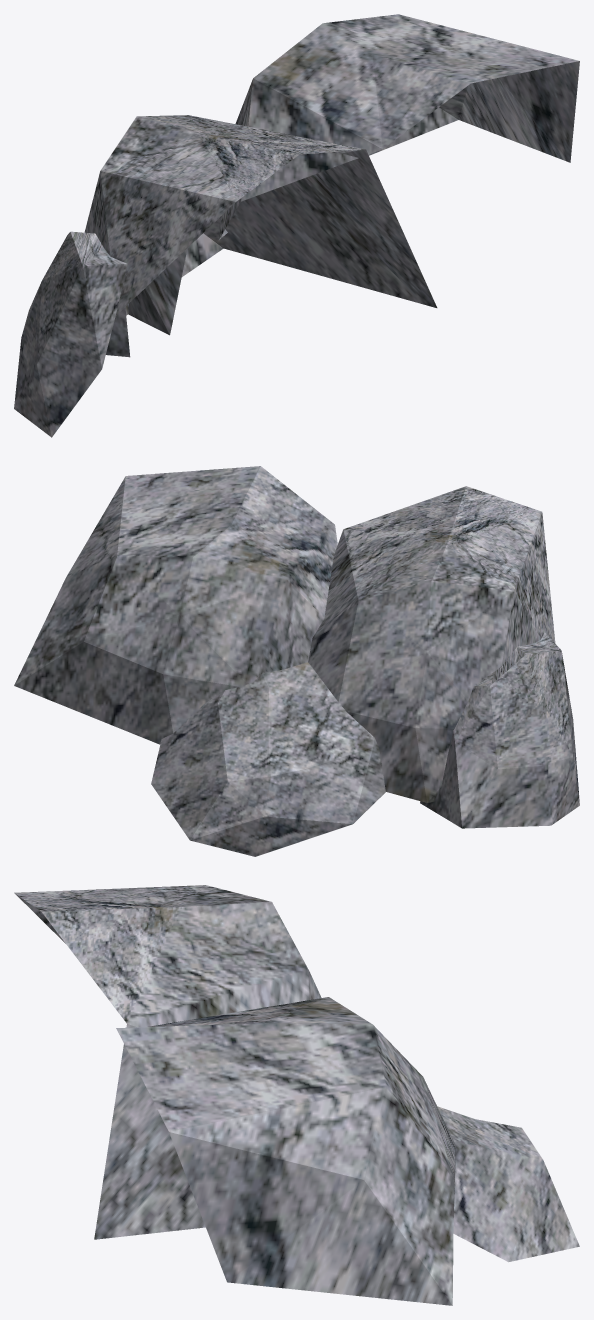
The model's file is des_rockgp1_04.obj.
The picture shows the model from 3 angles, top to bottom: view 1: azimuth 30°, elevation 25°; view 2: azimuth 150°, elevation 25°; view 3: azimuth 270°, elevation 25°; orthographic projection. The views are drawn at different scales.
Visible parts, largest first — view 1: des_rockgp1_04; view 2: des_rockgp1_04; view 3: des_rockgp1_04.
Boxes of the visible parts, box(x1,y1,x2,y2) form: des_rockgp1_04: box(14, 14, 579, 437); des_rockgp1_04: box(14, 466, 579, 856); des_rockgp1_04: box(14, 885, 579, 1305).
Bounding box in the file's own units: 54.26 × 26.55 × 42.93.
Materials: 2 (2 with a texture image).
